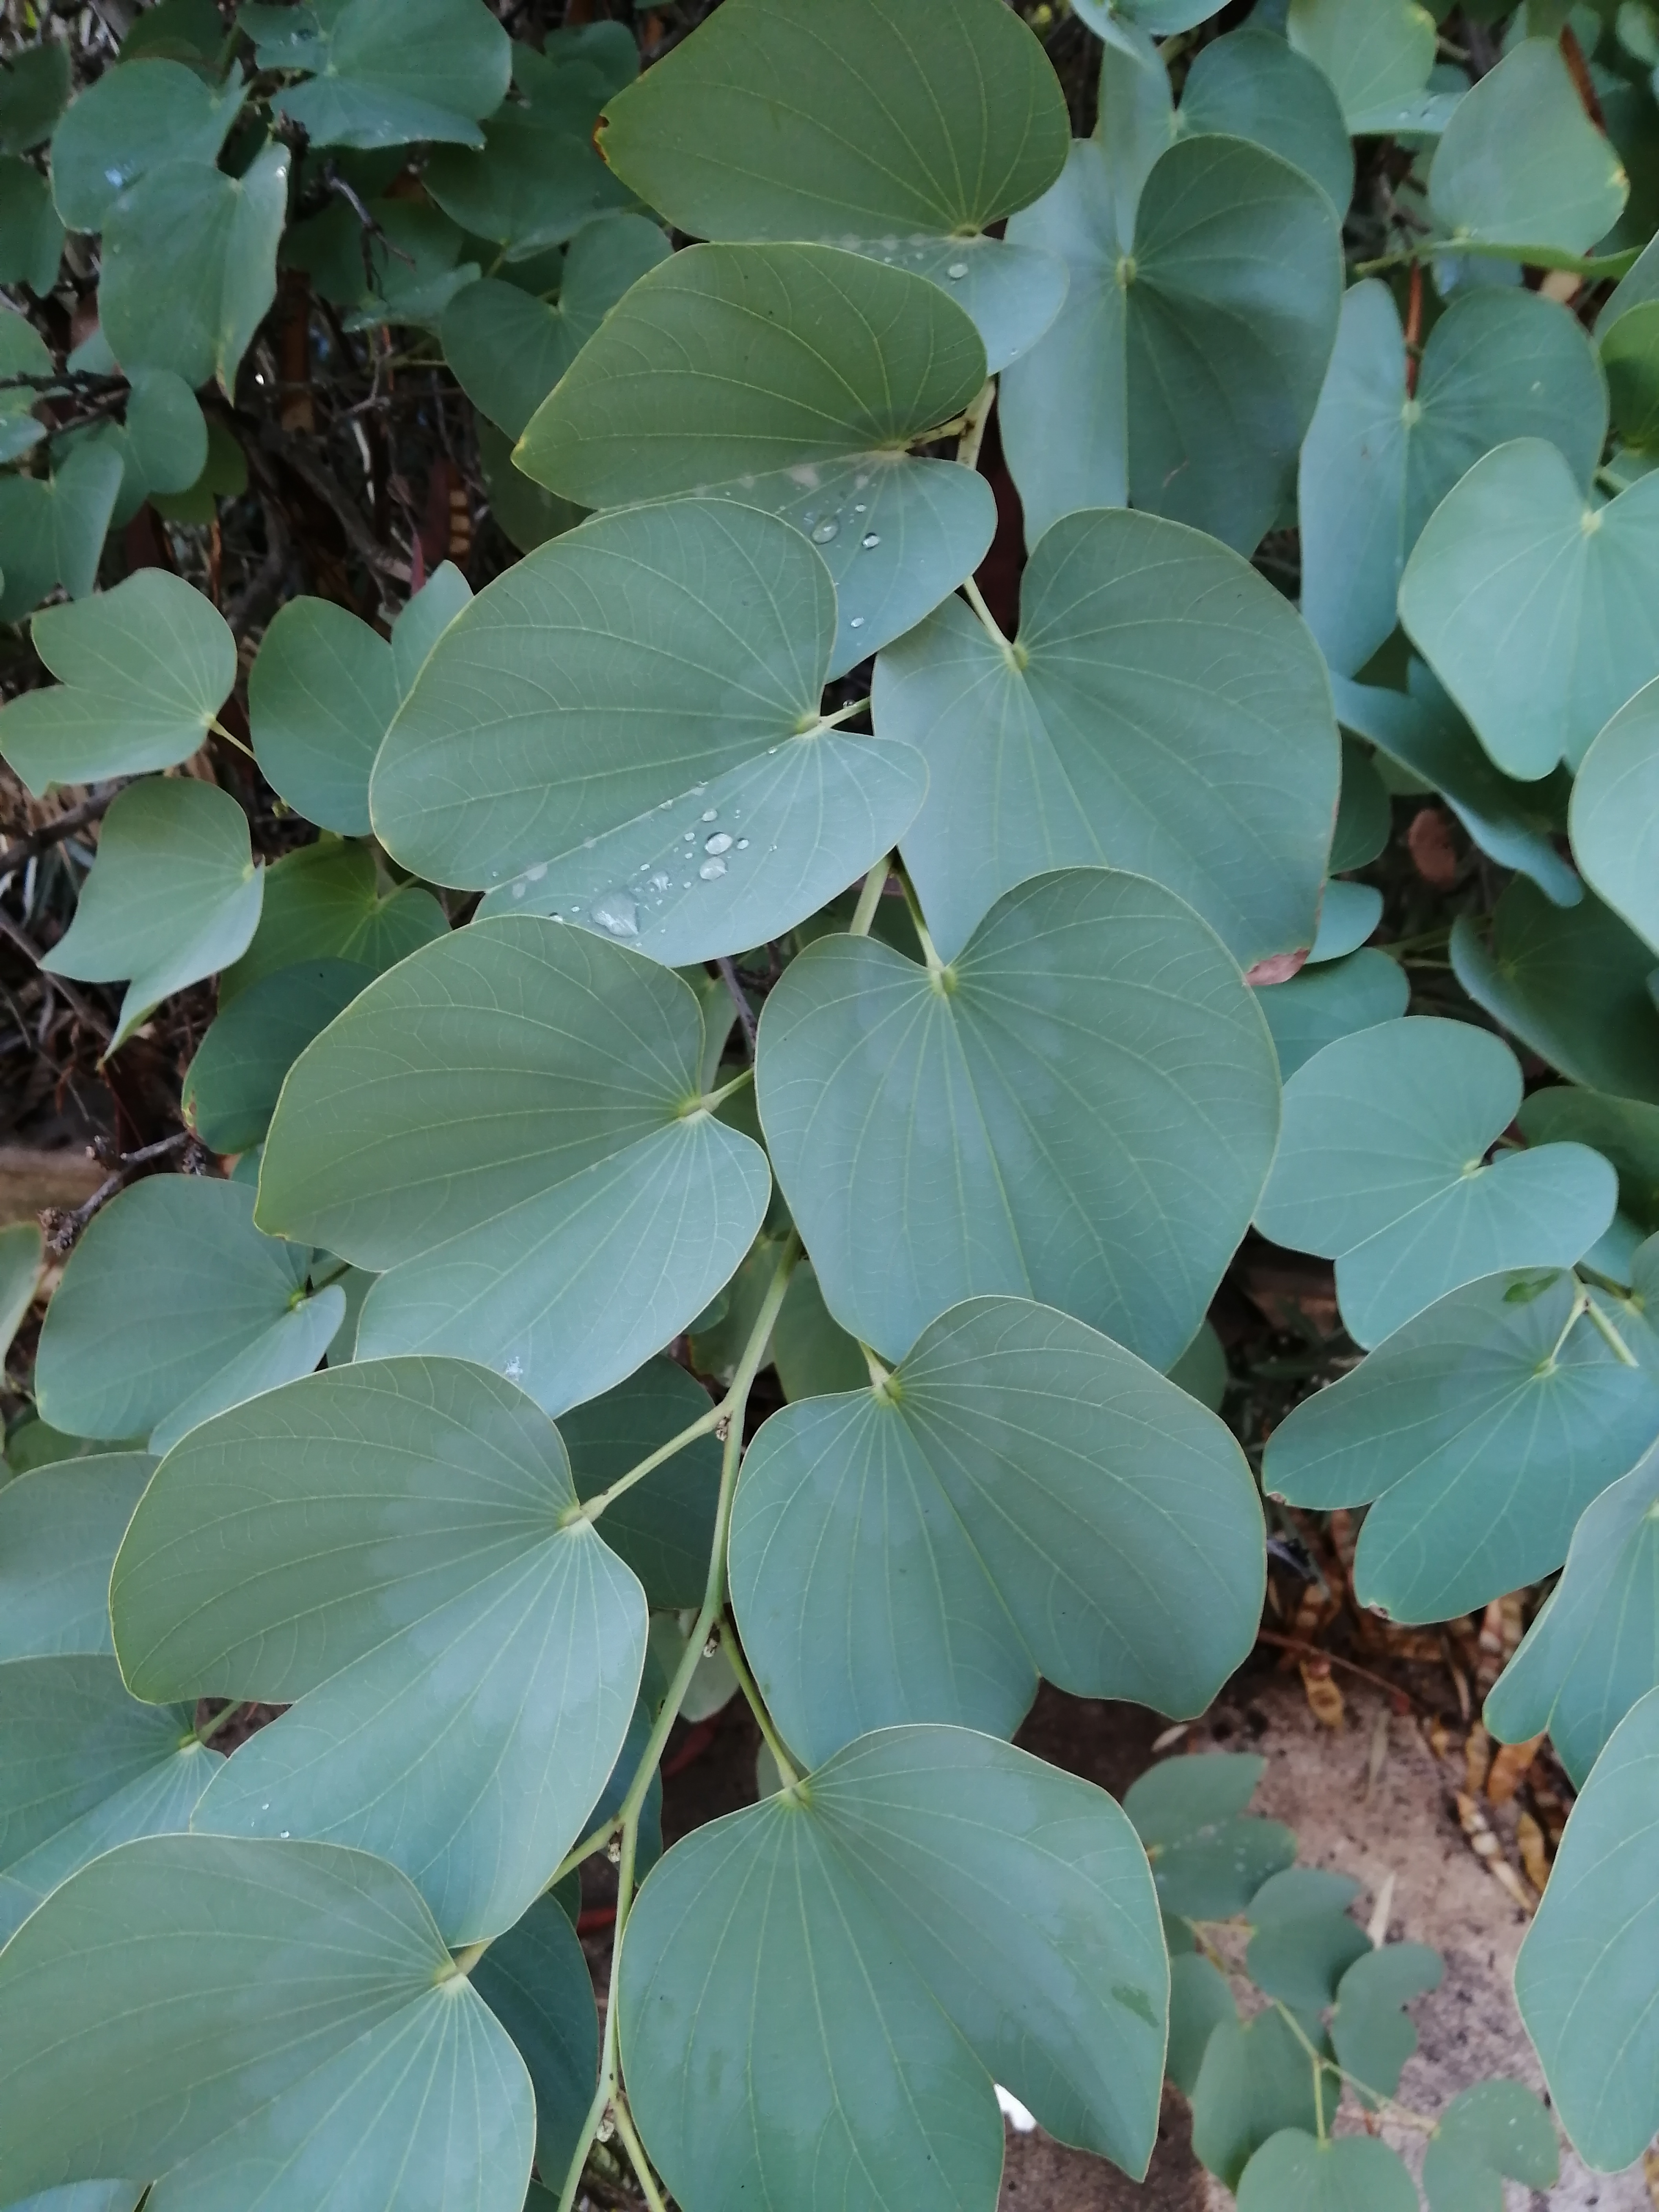healthy: (134, 1318, 690, 1918), (291, 909, 817, 1414), (408, 453, 875, 991), (629, 1759, 1197, 2196), (777, 883, 1291, 1341), (749, 1291, 1248, 1759), (892, 524, 1307, 1029), (538, 279, 978, 662), (993, 122, 1284, 561), (1229, 986, 1612, 1318), (1312, 1258, 1638, 1618), (47, 730, 328, 1062), (1408, 423, 1657, 770), (17, 556, 221, 779)
